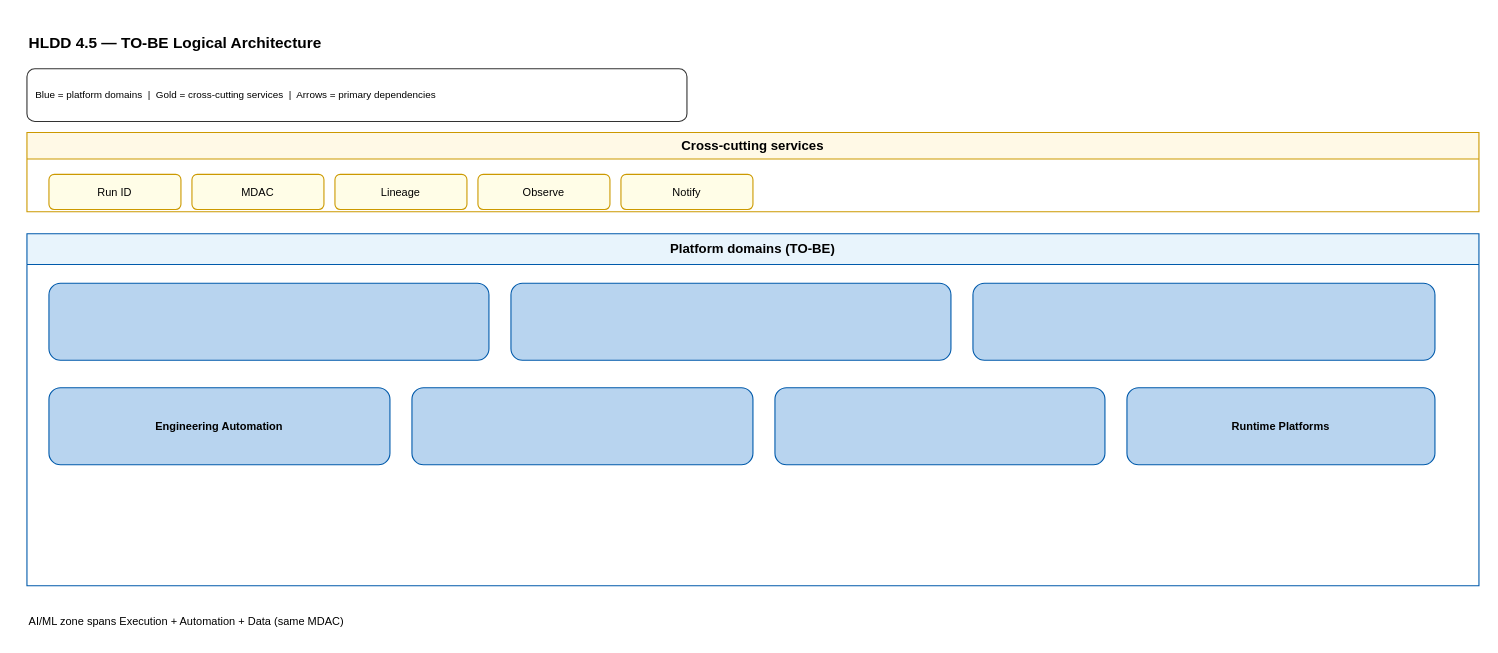
The diagram is 1498 pixels wide and 653 high, and some of its shapes have lost their labels. Each missing label, with the centre of its shape:
Execution Fabric: (1203,321)
Experience & Access: (730,321)
Global Federation: (939,426)
Governed Data & Continuity: (268,321)
Software Delivery: (582,426)
